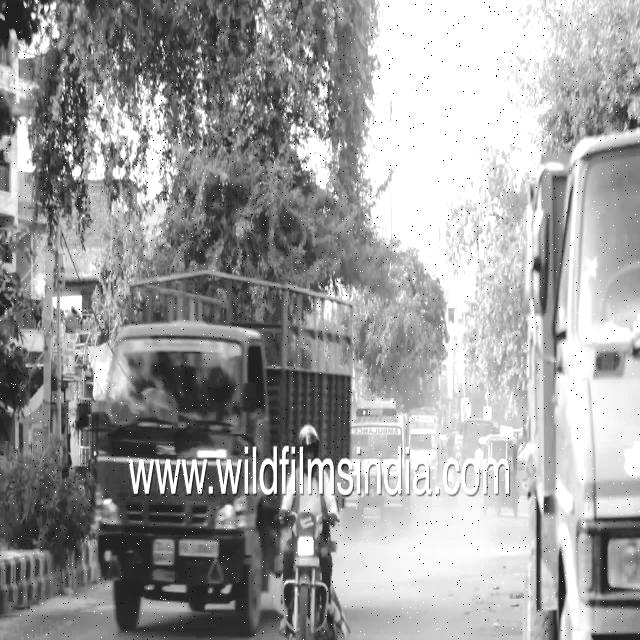Ambulance: (353, 400, 413, 454)
